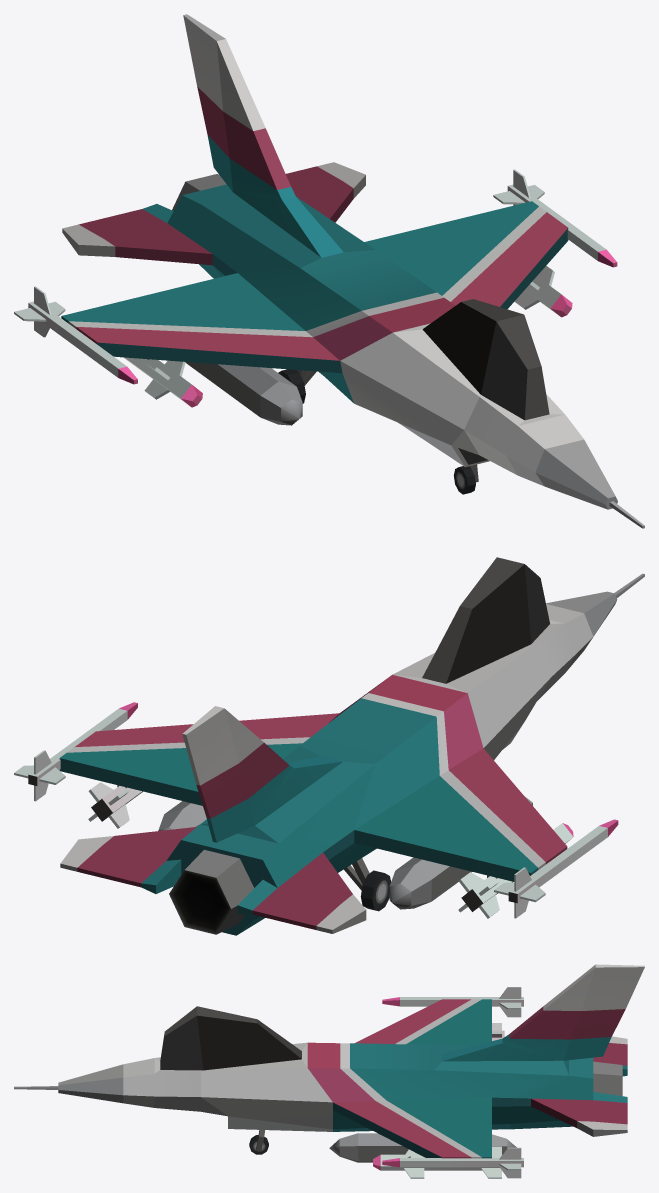
File: Fighter_Jet04.fbx
The picture shows the model from 3 angles, top to bottom: view 1: azimuth 30°, elevation 25°; view 2: azimuth 150°, elevation 25°; view 3: azimuth 270°, elevation 25°; orthographic projection. The views are drawn at different scales.
Parts seen in each view (by area): view 1: Fighter_Jet04; view 2: Fighter_Jet04; view 3: Fighter_Jet04.
Part boxes in pixels (left/top/right/bottom): Fighter_Jet04: left=14, top=14, right=644, bottom=528; Fighter_Jet04: left=14, top=557, right=644, bottom=935; Fighter_Jet04: left=14, top=964, right=644, bottom=1178.
Bounding box in the file's own units: 15.64 × 7.82 × 23.85.
